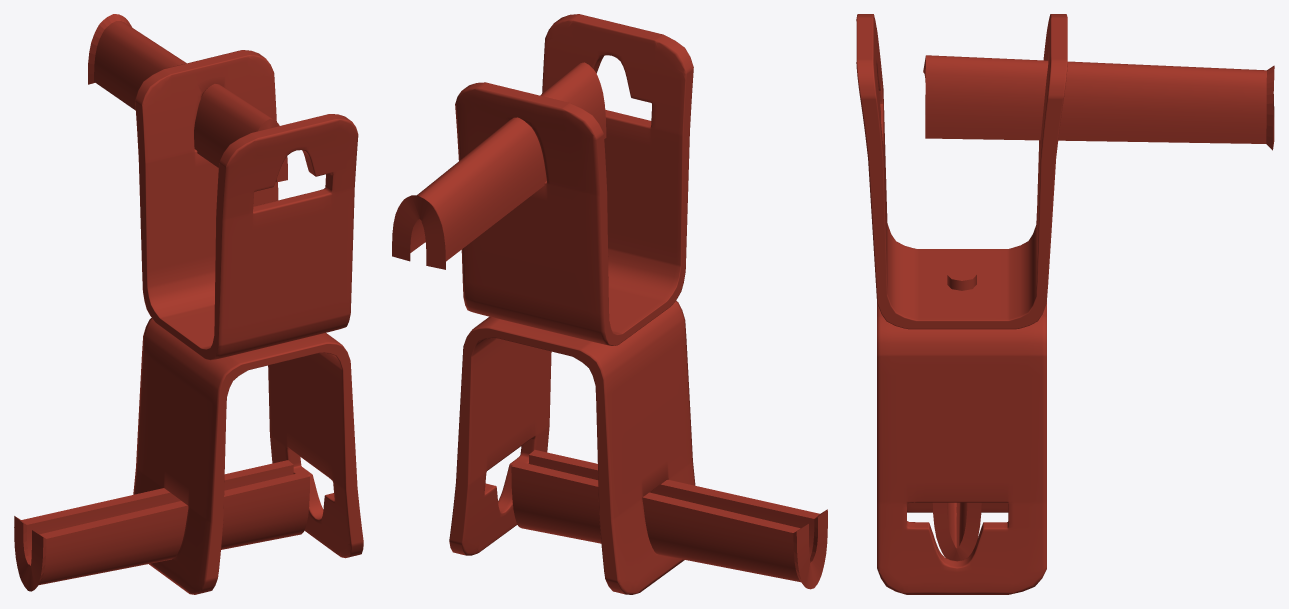
Rendered from swivel_coupler.glb.
3 views of the same model, side by side, from view 1: azimuth 30°, elevation 25°; view 2: azimuth 150°, elevation 25°; view 3: azimuth 270°, elevation 25° (orthographic). The views are drawn at different scales.
Visible parts, largest first — view 1: Box001, Box002, objct002, objct1; view 2: Box001, Box002, objct002, objct1; view 3: Box002, objct1, Box001, objct002, Cylinder001.
Part boxes in pixels (x1,y1,x2,y2): Box001: (135, 50, 358, 360); Box002: (133, 318, 363, 594); objct002: (14, 460, 309, 591); objct1: (88, 14, 287, 182); Box001: (455, 14, 693, 345); Box002: (449, 300, 695, 594); objct002: (511, 450, 827, 589); objct1: (392, 62, 606, 269); Box002: (877, 302, 1046, 594); objct1: (923, 55, 1274, 150); Box001: (856, 14, 1067, 329); objct002: (932, 502, 981, 560); Cylinder001: (947, 268, 976, 290).
Bounding box in the file's own units: 0.1378 × 0.2 × 0.1476.
1 material, 1 textured.
